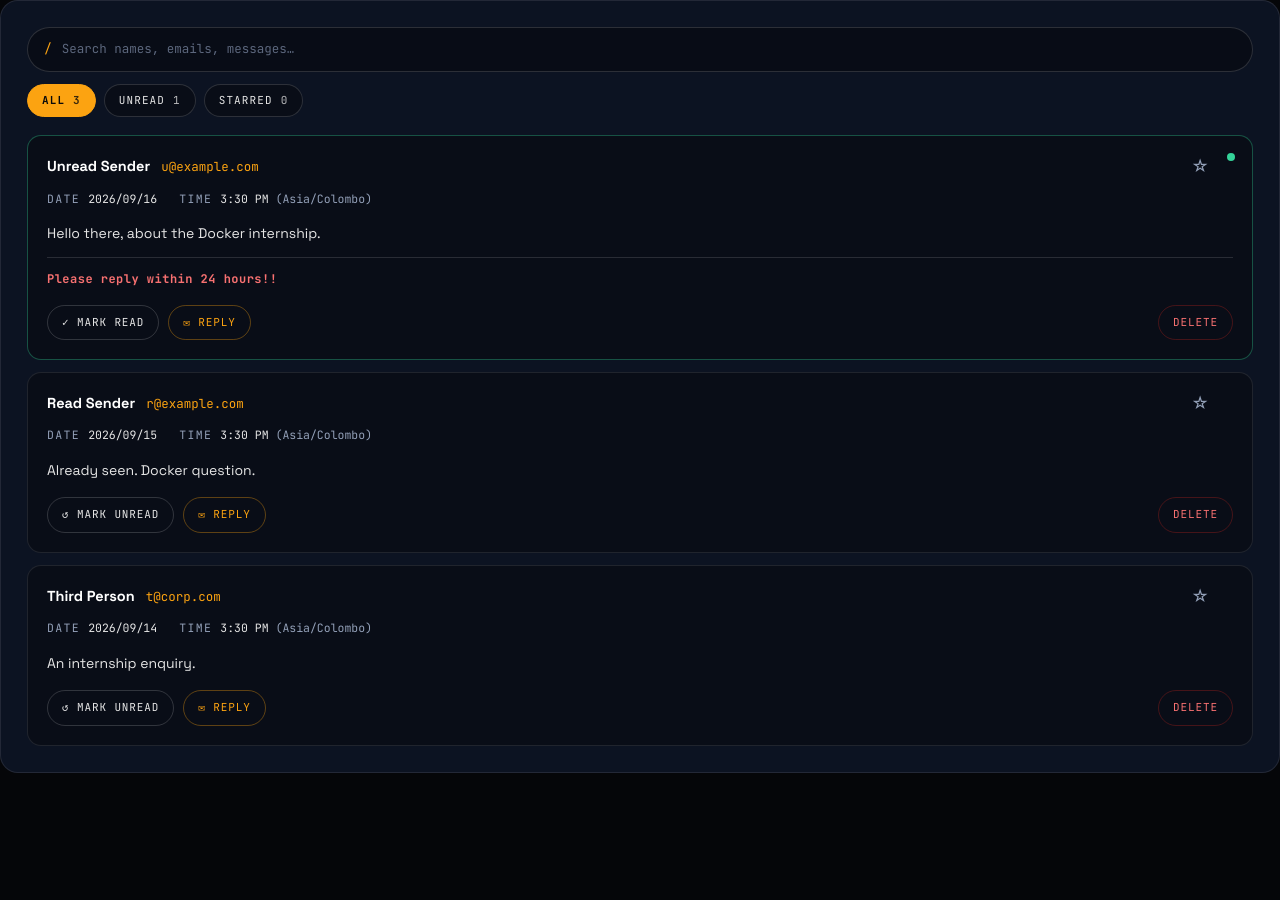
ALL · UNREAD · STARRED › says how to star when STARRED is empty
The width and height of the screenshot is (1280, 900).
Step 1. Click the button "STARRED 0" → (254, 101), box x1=204 y1=84 x2=303 y2=117
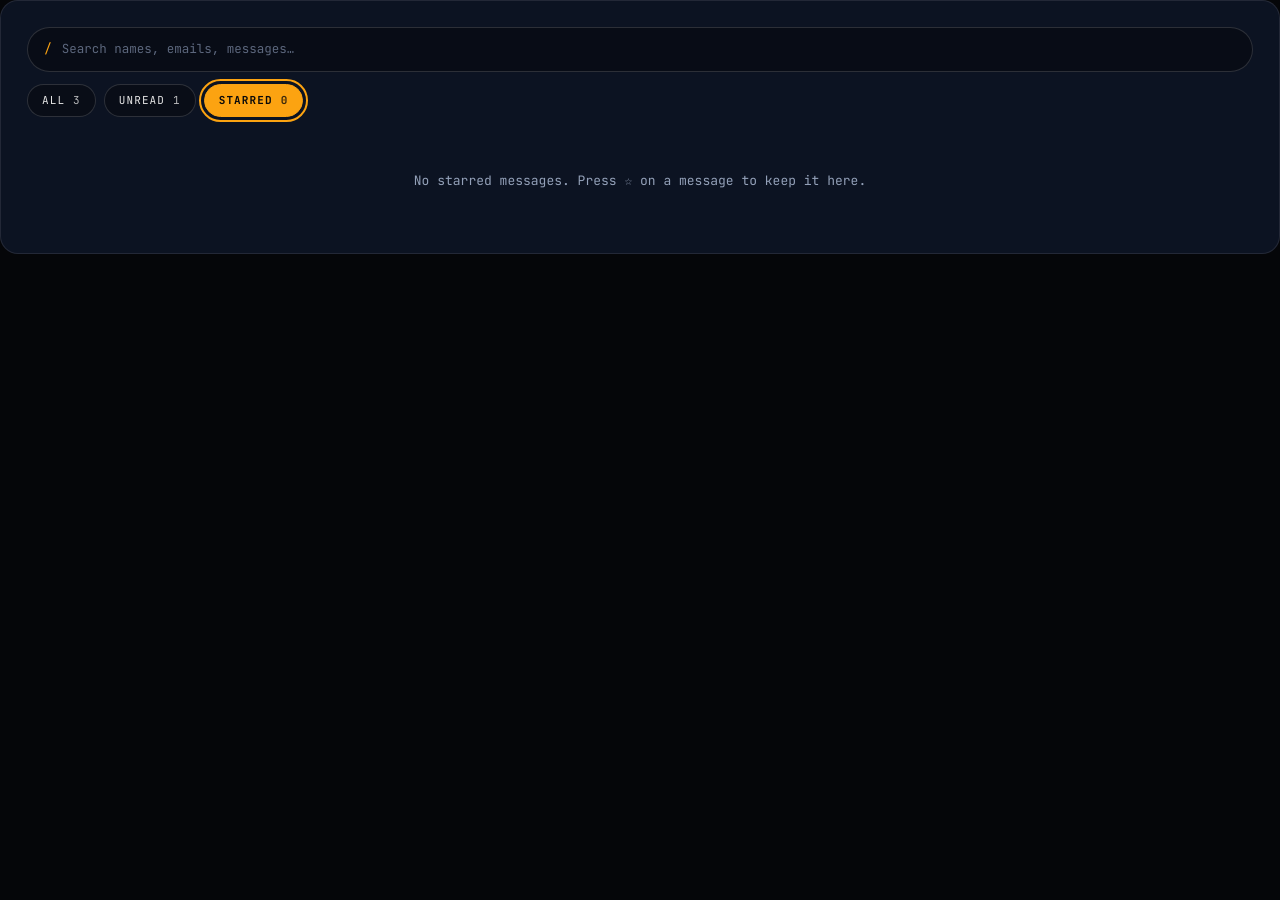
expect the message reads "No starred messages. Press ☆ on a message to keep it here.": met, box x1=414 y1=172 x2=866 y2=189
